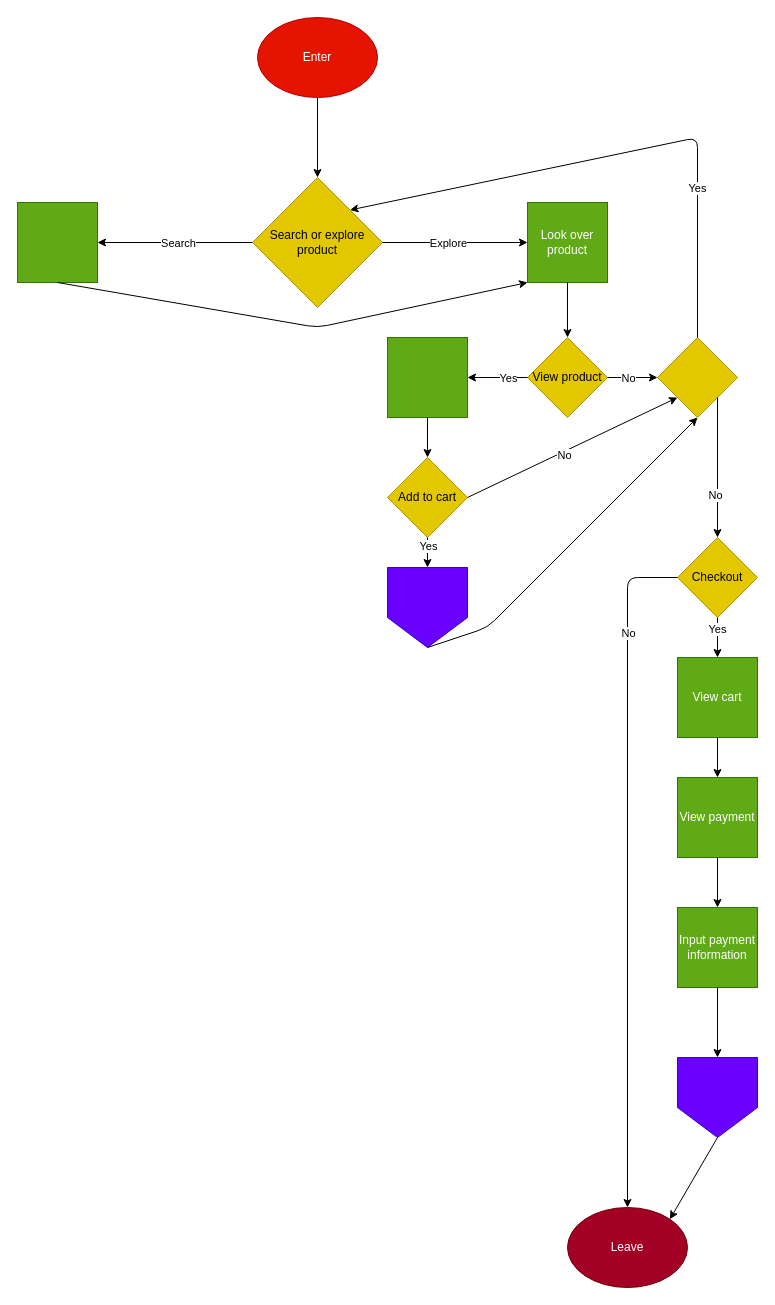
The diagram is 775 pixels wide and 1305 high, and some of its shapes have lost their labels. The shapes that lost their labels are listed below. From the top down, each one's centre as x and y in pixels, then its label:
At point (57, 242): "Input search".
At point (427, 377): "Open product page".
At point (697, 377): "Continue shopping".
At point (427, 607): "Confirm add".
At point (717, 1097): "Receive confirmation and email".
